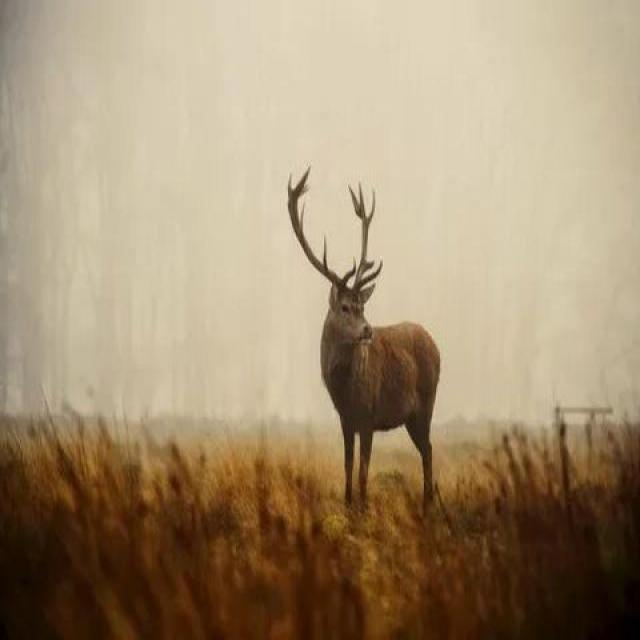deer: (266, 168, 479, 493)
